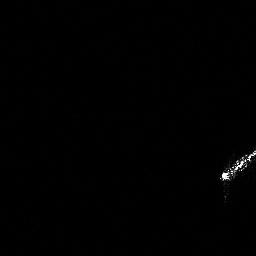ship: (214, 146, 256, 185)
